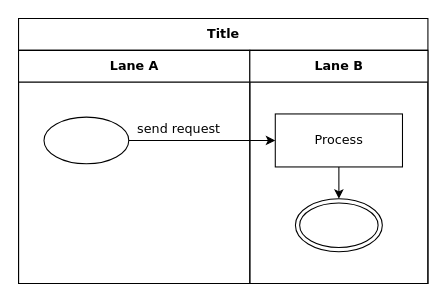
Image size: 447x302. Some labels were removed from this diagram. The centre of each missing label's shape, as x and y in pixels:
Done: [338,225]
Start: [86,140]
